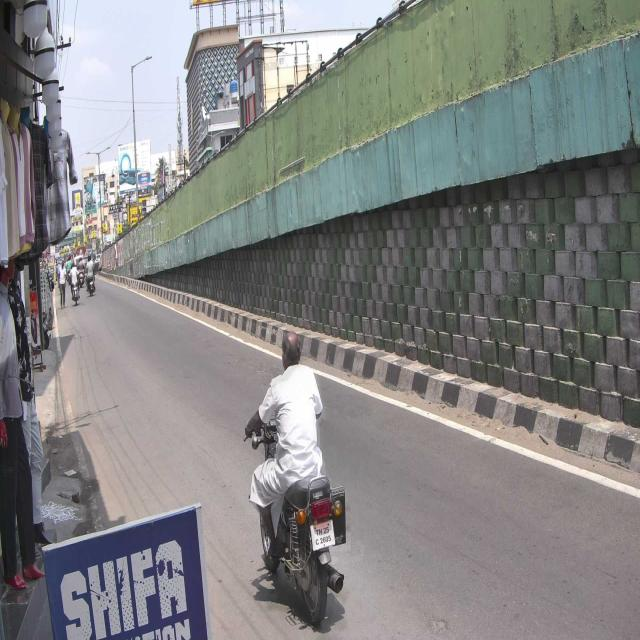single_rider: (245, 328, 347, 624)
